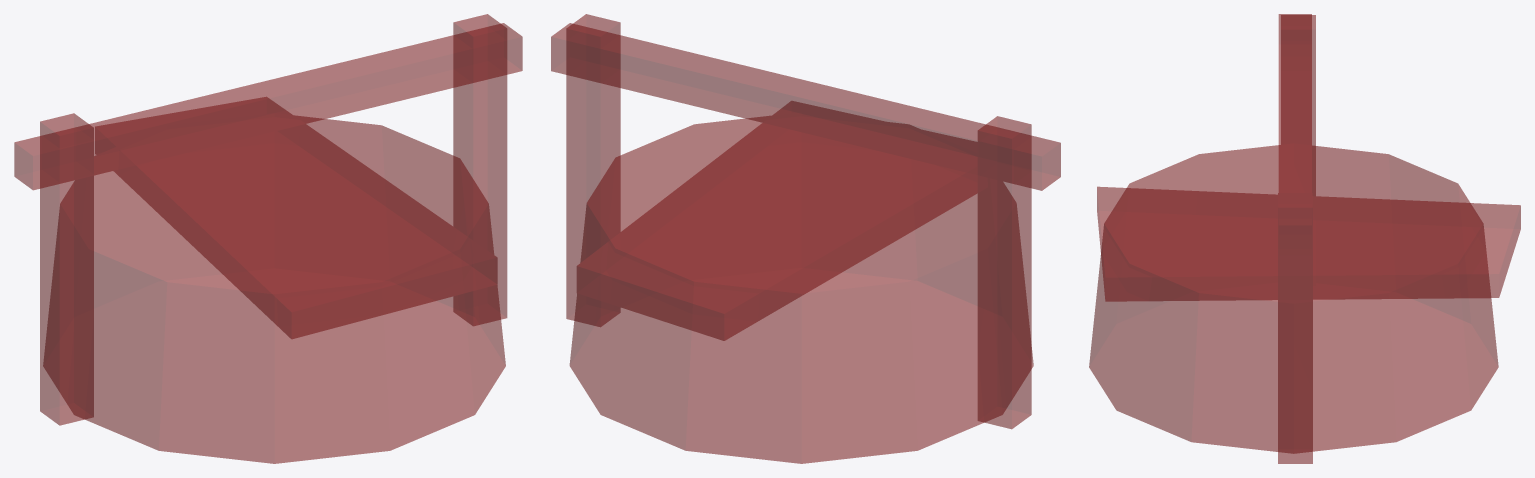
File: SM_Prop_Well_01_Collision.fbx
3 views of the same model, side by side, from view 1: azimuth 30°, elevation 25°; view 2: azimuth 150°, elevation 25°; view 3: azimuth 270°, elevation 25° (orthographic). The views are drawn at different scales.
Parts seen in each view (by area): view 1: SM_Prop_Well_01_Collision; view 2: SM_Prop_Well_01_Collision; view 3: SM_Prop_Well_01_Collision.
Part boxes in pixels (bbox=[...]): SM_Prop_Well_01_Collision: bbox=[14, 14, 522, 463]; SM_Prop_Well_01_Collision: bbox=[551, 14, 1060, 463]; SM_Prop_Well_01_Collision: bbox=[1089, 14, 1520, 463].
Bounding box in the file's own units: 324 × 183 × 280.
